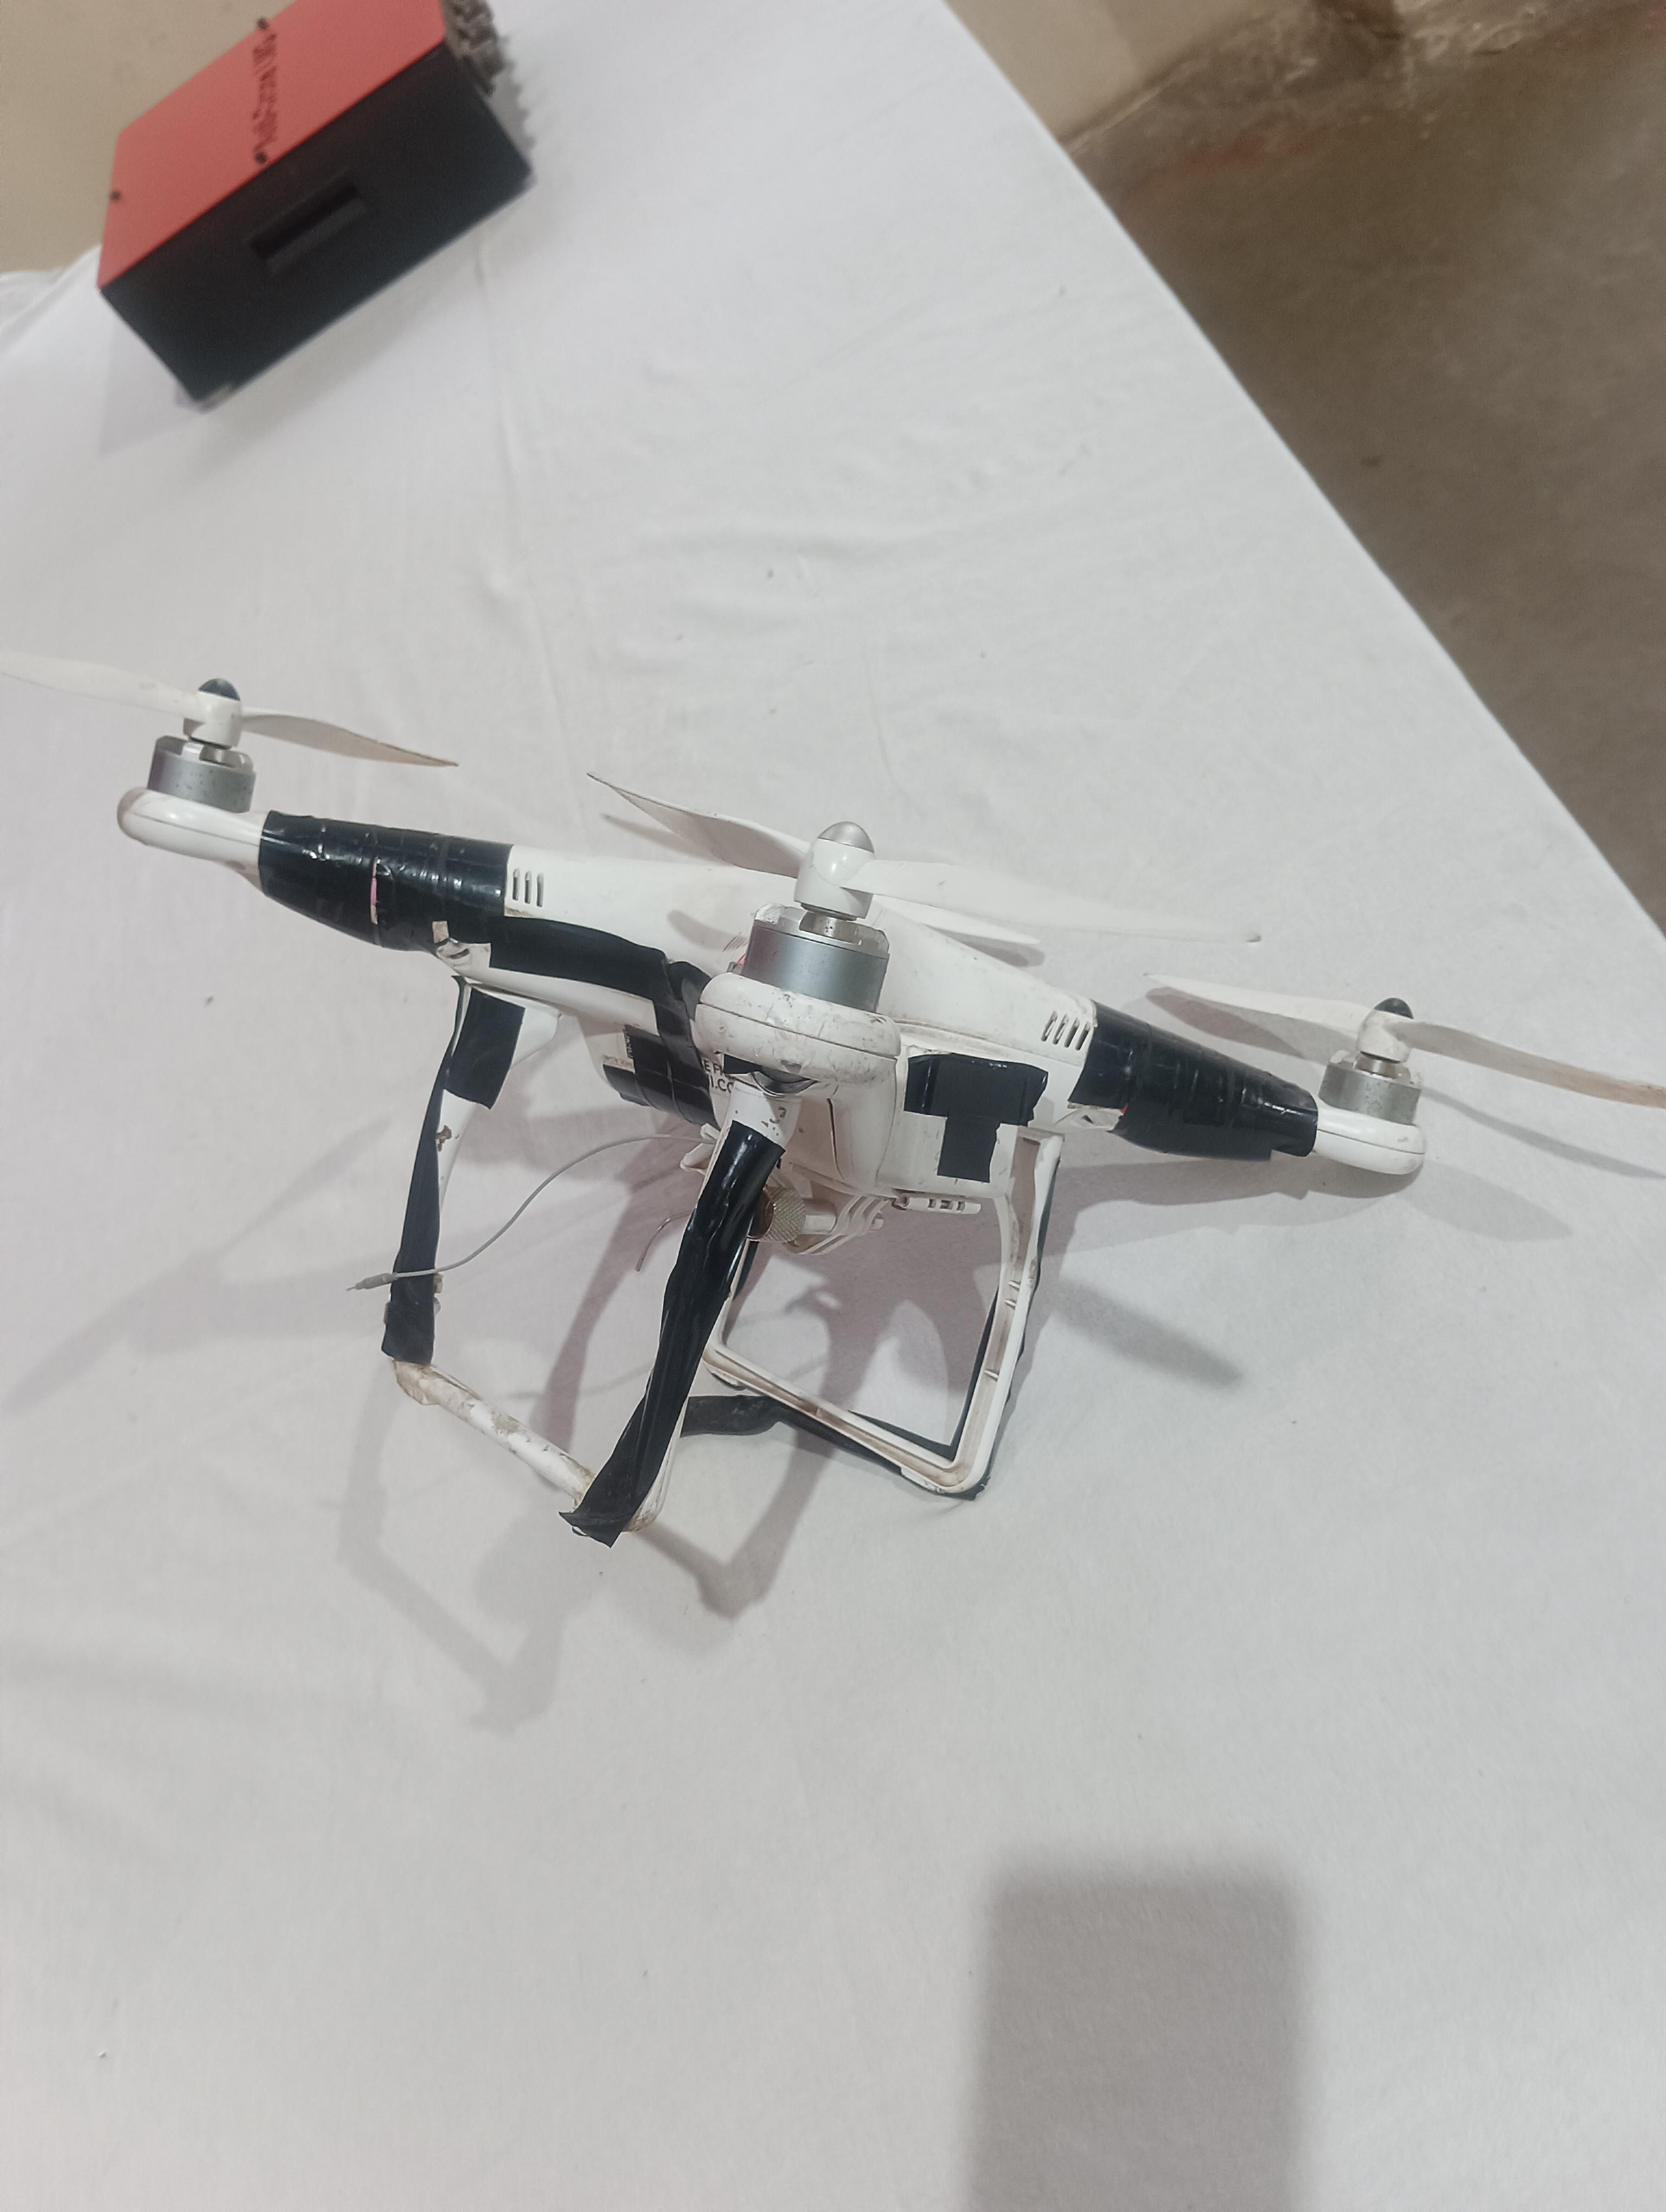drone: (96, 643, 1439, 1570)
